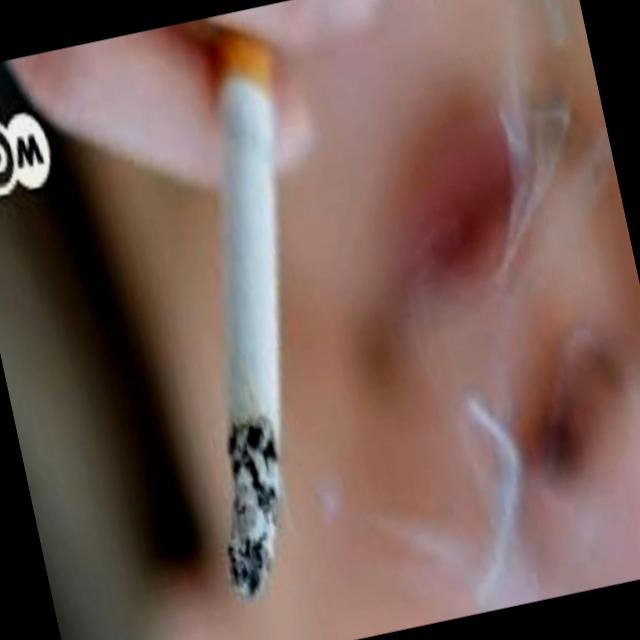cigarette: (104, 0, 437, 613)
